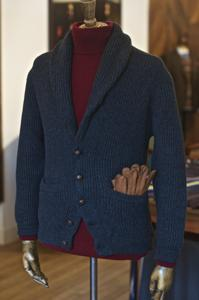C_cardigan sweater: (12, 26, 180, 275)
